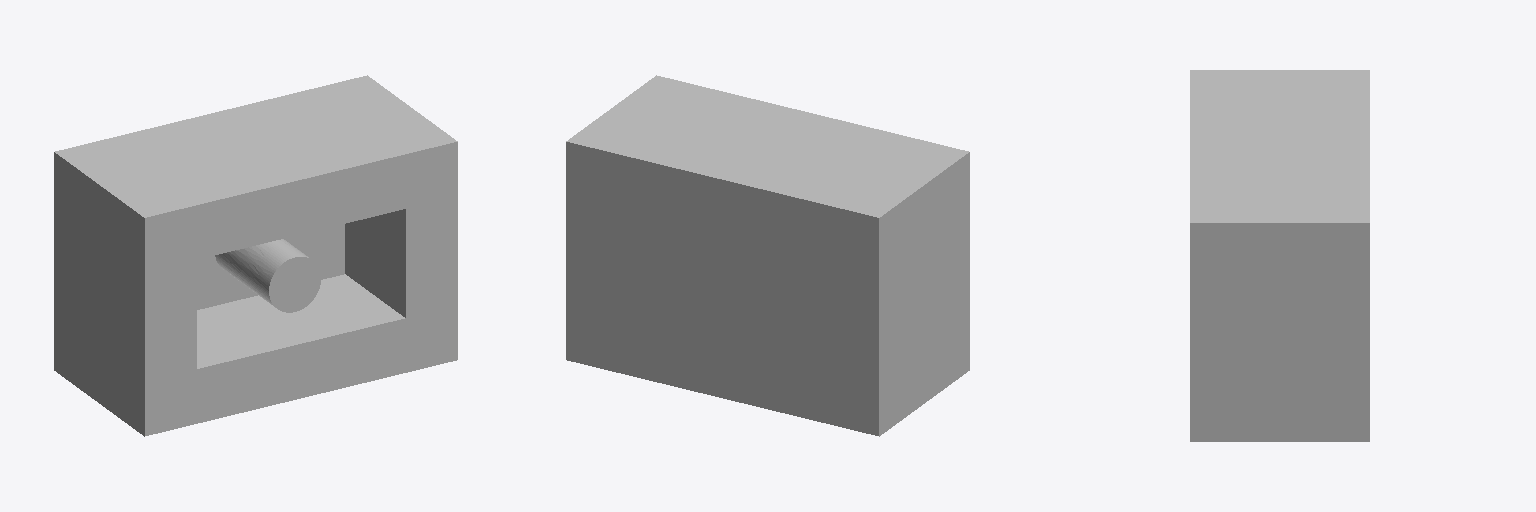
The model's file is tank50.obj.
3 views of the same model, side by side, from view 1: azimuth 30°, elevation 25°; view 2: azimuth 150°, elevation 25°; view 3: azimuth 270°, elevation 25° (orthographic).
Bounding box in the file's own units: 3 × 2 × 1.5.